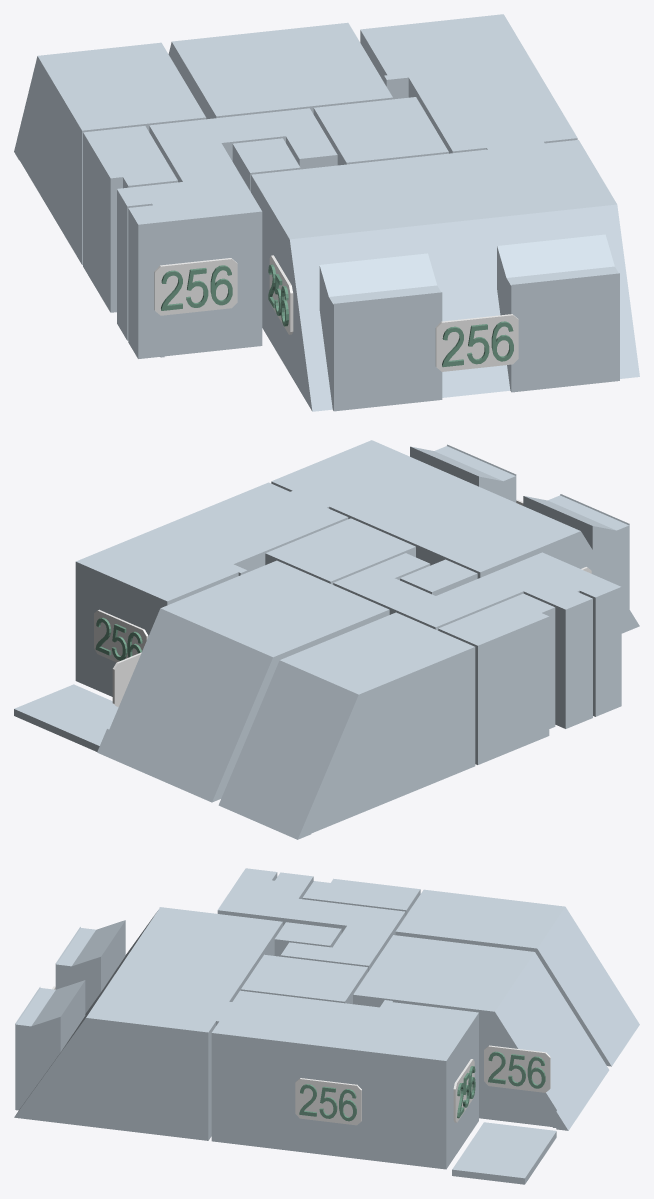
3 views of the same model, one above another, from view 1: azimuth 30°, elevation 25°; view 2: azimuth 150°, elevation 25°; view 3: azimuth 270°, elevation 25° (orthographic). The views are drawn at different scales.
Parts seen in each view (by area): view 1: g_0, g_5, g_1, g_3, g_2, g_7, g_4, g_12, g_32, g_6, g_24; view 2: g_3, g_2, g_0, g_1, g_5, g_7, g_4, g_8, g_6, g_16, g_28; view 3: g_0, g_1, g_2, g_3, g_5, g_8, g_4, g_7, g_28, g_20, g_6, g_16.
Part boxes in pixels (x1,y1,x2,y2): g_0: [251, 140, 639, 411]; g_5: [117, 108, 337, 358]; g_1: [360, 14, 577, 153]; g_3: [14, 42, 206, 264]; g_2: [168, 22, 392, 119]; g_7: [83, 126, 177, 312]; g_4: [313, 97, 448, 165]; g_12: [154, 258, 237, 315]; g_32: [435, 314, 518, 371]; g_6: [232, 138, 300, 191]; g_24: [269, 255, 293, 334]; g_3: [218, 612, 475, 839]; g_2: [97, 560, 389, 802]; g_0: [271, 440, 639, 633]; g_1: [75, 482, 348, 696]; g_5: [333, 552, 621, 728]; g_7: [438, 593, 555, 764]; g_4: [265, 518, 415, 584]; g_8: [14, 684, 118, 751]; g_6: [400, 559, 477, 595]; g_16: [94, 609, 148, 662]; g_28: [112, 652, 141, 706]; g_0: [14, 907, 282, 1140]; g_1: [211, 990, 478, 1169]; g_2: [353, 935, 609, 1130]; g_3: [395, 889, 639, 1066]; g_5: [217, 868, 405, 971]; g_8: [452, 1122, 556, 1184]; g_4: [241, 954, 368, 1004]; g_7: [302, 878, 420, 915]; g_28: [484, 1045, 550, 1092]; g_20: [295, 1078, 361, 1125]; g_6: [274, 922, 341, 956]; g_16: [453, 1059, 474, 1122].
Size of the model in its own units: 10.12 by 2.71 by 13.31.
